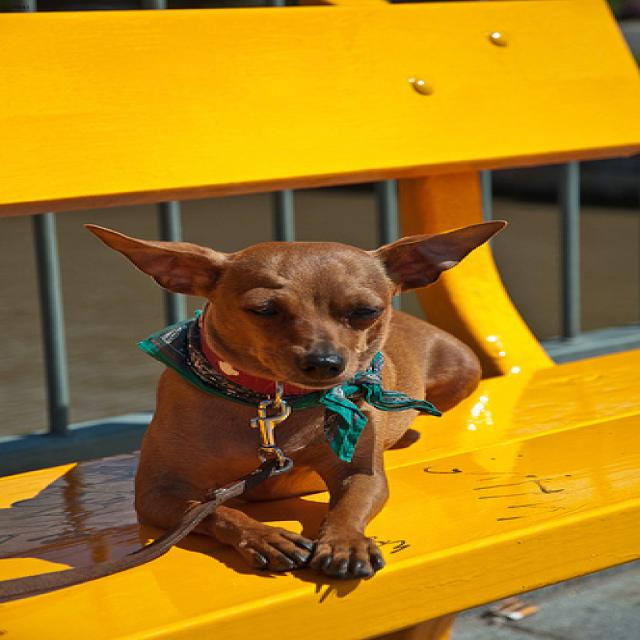dog-miniature_pinscher: (71, 212, 517, 589)
